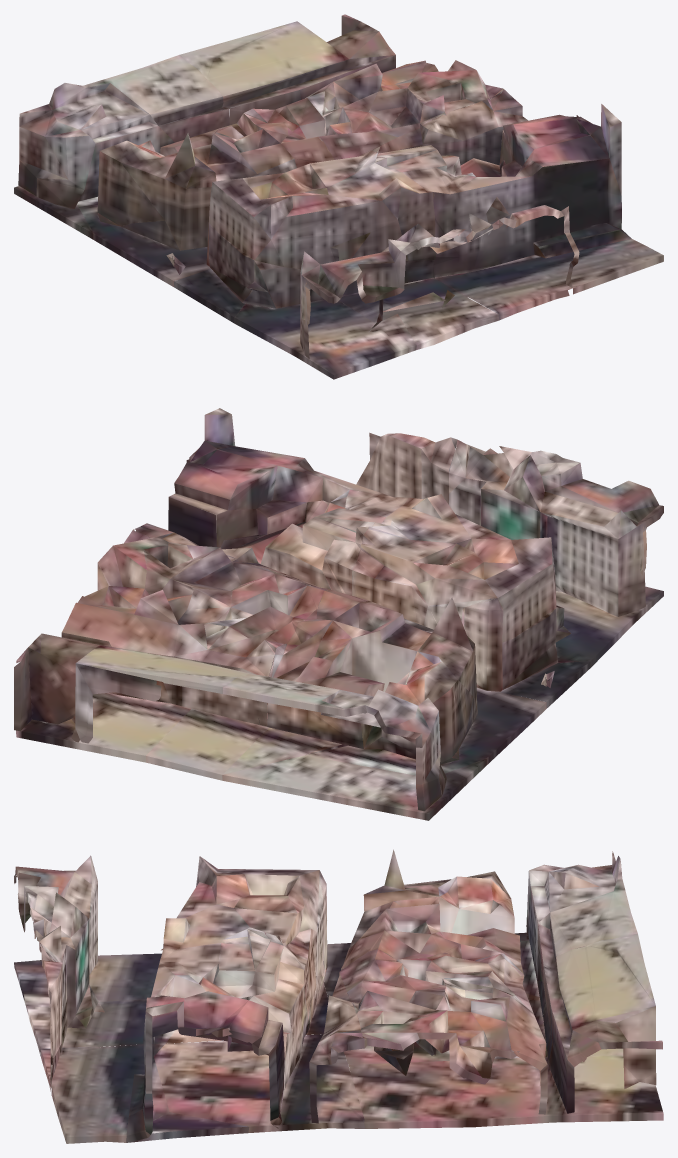
The picture shows the model from 3 angles, top to bottom: view 1: azimuth 30°, elevation 25°; view 2: azimuth 150°, elevation 25°; view 3: azimuth 270°, elevation 25°; orthographic projection. The views are drawn at different scales.
Visible parts, largest first — view 1: Mesh_0; view 2: Mesh_0; view 3: Mesh_0.
Part boxes in pixels (left/top/right/bottom): Mesh_0: left=14, top=14, right=663, bottom=379; Mesh_0: left=14, top=408, right=663, bottom=820; Mesh_0: left=14, top=849, right=663, bottom=1143.
Size of the model in its own units: 133 by 43.18 by 165.
1 material, 1 textured.
